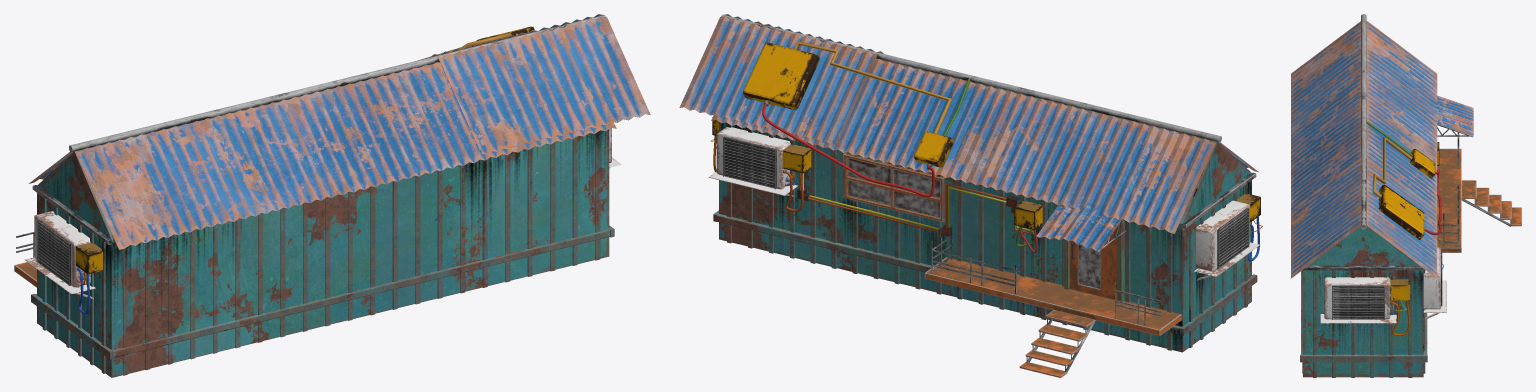
File: cityHouse_Unreal.fbx
3 renders of one model, left to right at view 1: azimuth 30°, elevation 25°; view 2: azimuth 150°, elevation 25°; view 3: azimuth 270°, elevation 25°, orthographic. The views are drawn at different scales.
Visible parts, largest first — view 1: Cube.057; view 2: Cube.057; view 3: Cube.057.
Boxes of the visible parts, x1=… form: Cube.057: x1=14, y1=14, x2=650, y2=377; Cube.057: x1=679, y1=14, x2=1262, y2=377; Cube.057: x1=1291, y1=14, x2=1521, y2=377.
Bounding box in the file's own units: 2500 × 895 × 1113.
